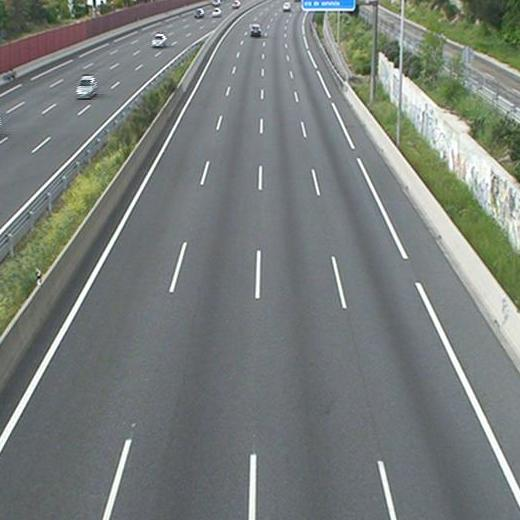car: (250, 24, 261, 36), (282, 1, 291, 10)
